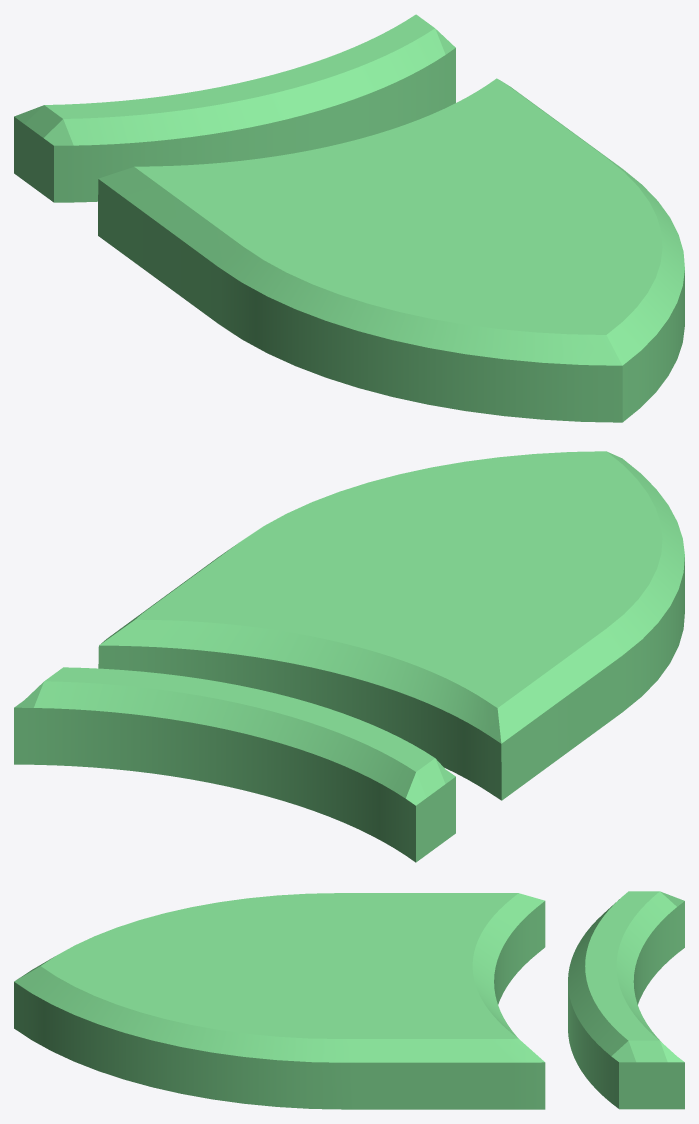
File: xor.fbx
3 views of the same model, one above another, from view 1: azimuth 30°, elevation 25°; view 2: azimuth 150°, elevation 25°; view 3: azimuth 270°, elevation 25° (orthographic). The views are drawn at different scales.
Visible parts, largest first — view 1: path10179.005; view 2: path10179.005; view 3: path10179.005.
Part boxes in pixels (box(x1,y1,x2,y2)): path10179.005: box(14, 14, 684, 422); path10179.005: box(14, 451, 684, 862); path10179.005: box(14, 891, 684, 1109).
Bounding box in the file's own units: 2.23 × 0.4 × 3.9.
